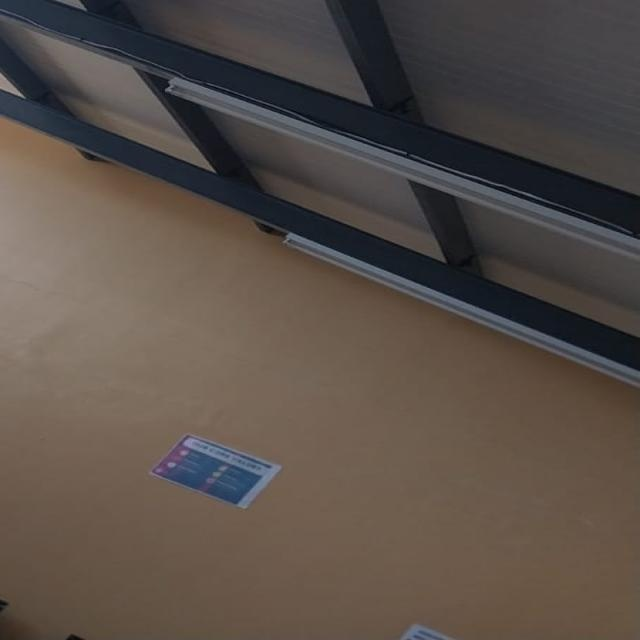fluorescent tube: (135, 60, 640, 264), (231, 220, 640, 408), (0, 1, 28, 149)
